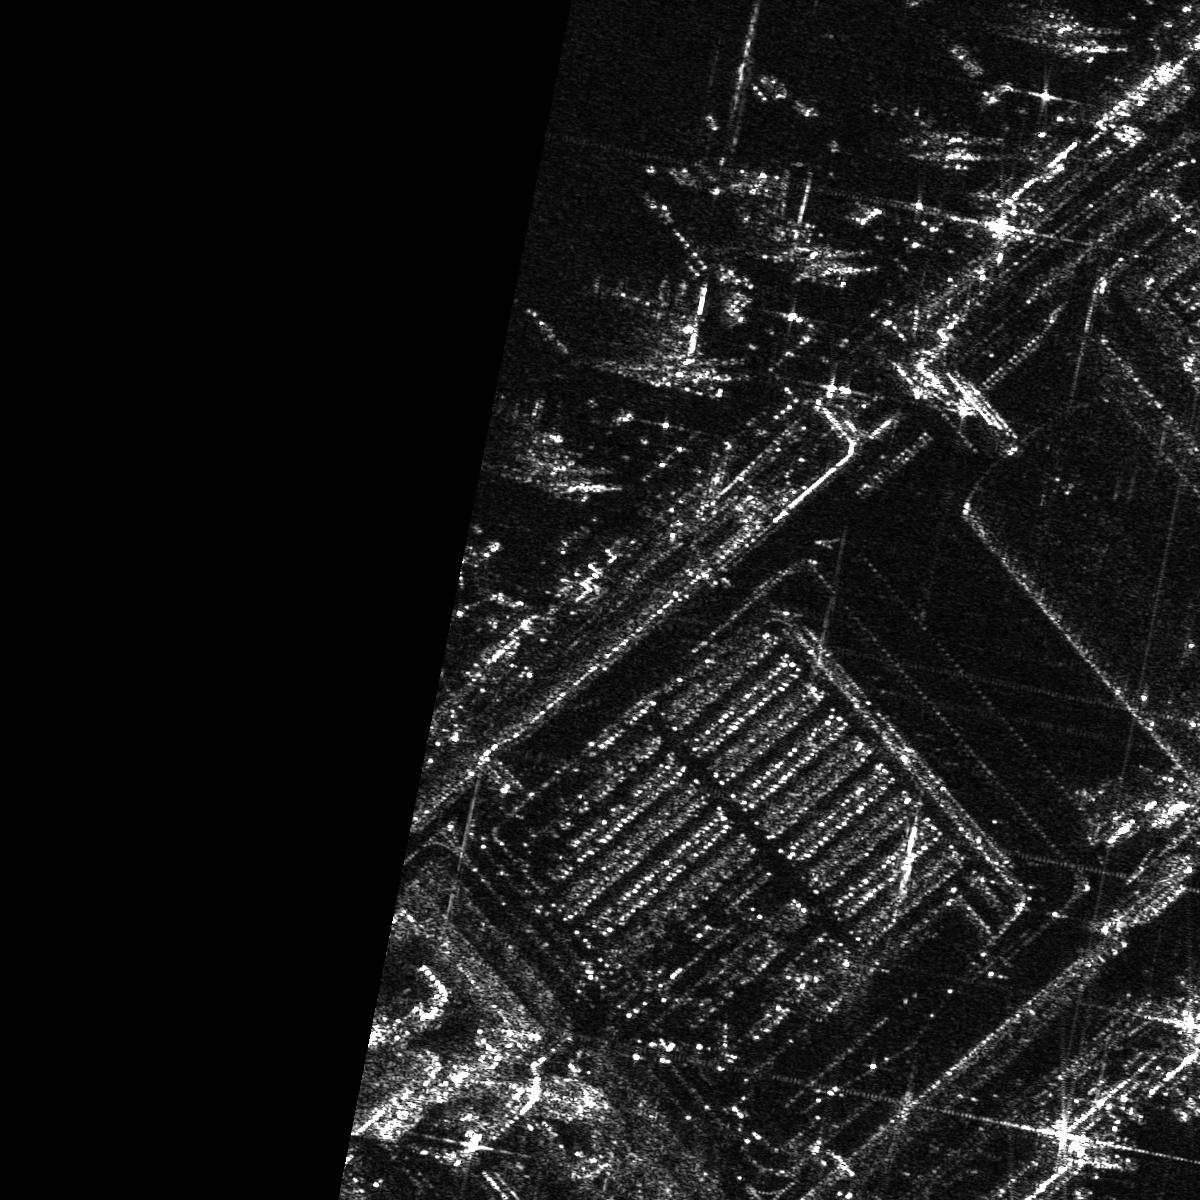Boeing737: (498, 388, 584, 481)
Boeing787: (592, 266, 709, 389), (704, 154, 811, 242)
